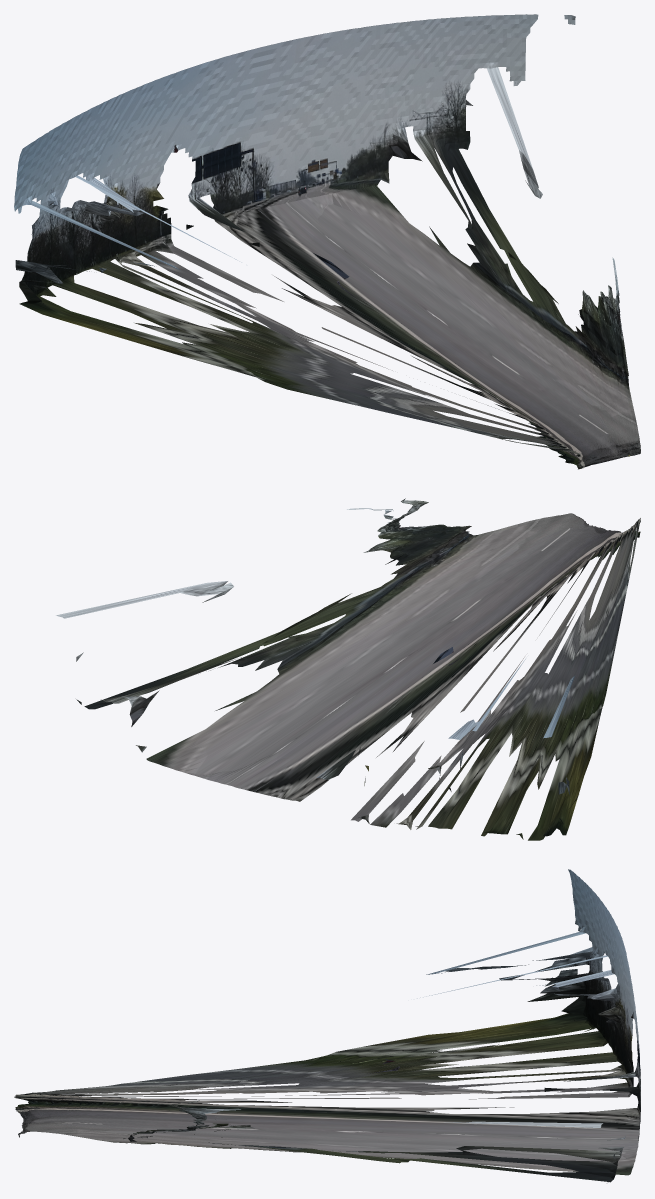
3 renders of one model, top to bottom at view 1: azimuth 30°, elevation 25°; view 2: azimuth 150°, elevation 25°; view 3: azimuth 270°, elevation 25°, orthographic. The views are drawn at different scales.
Parts seen in each view (by area): view 1: defaultobject; view 2: defaultobject; view 3: defaultobject.
Boxes of the visible parts, box(x1,y1,x2,y2) form: defaultobject: box(14, 14, 640, 469); defaultobject: box(56, 498, 640, 840); defaultobject: box(14, 869, 640, 1182).
Size of the model in its own units: 40.75 by 12.6 by 44.78.
1 material, 1 textured.
